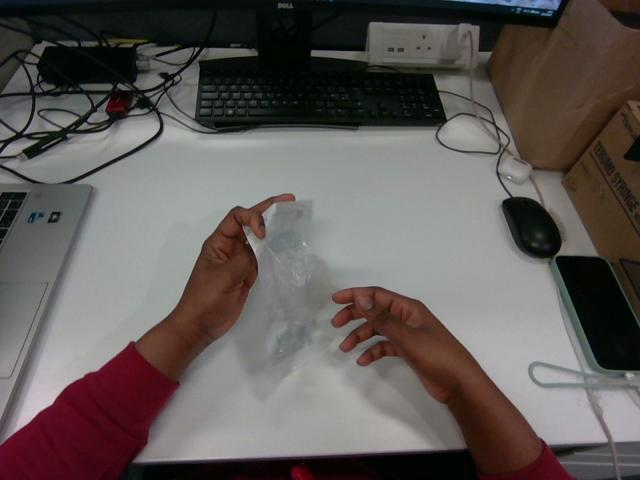gallipot: (245, 200, 329, 369)
